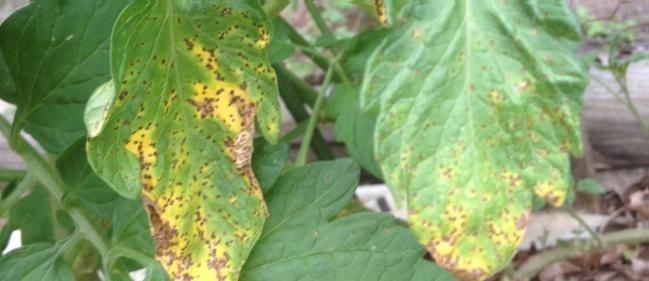Tomato Septoria leaf spot: (349, 0, 592, 281), (82, 0, 282, 281)
